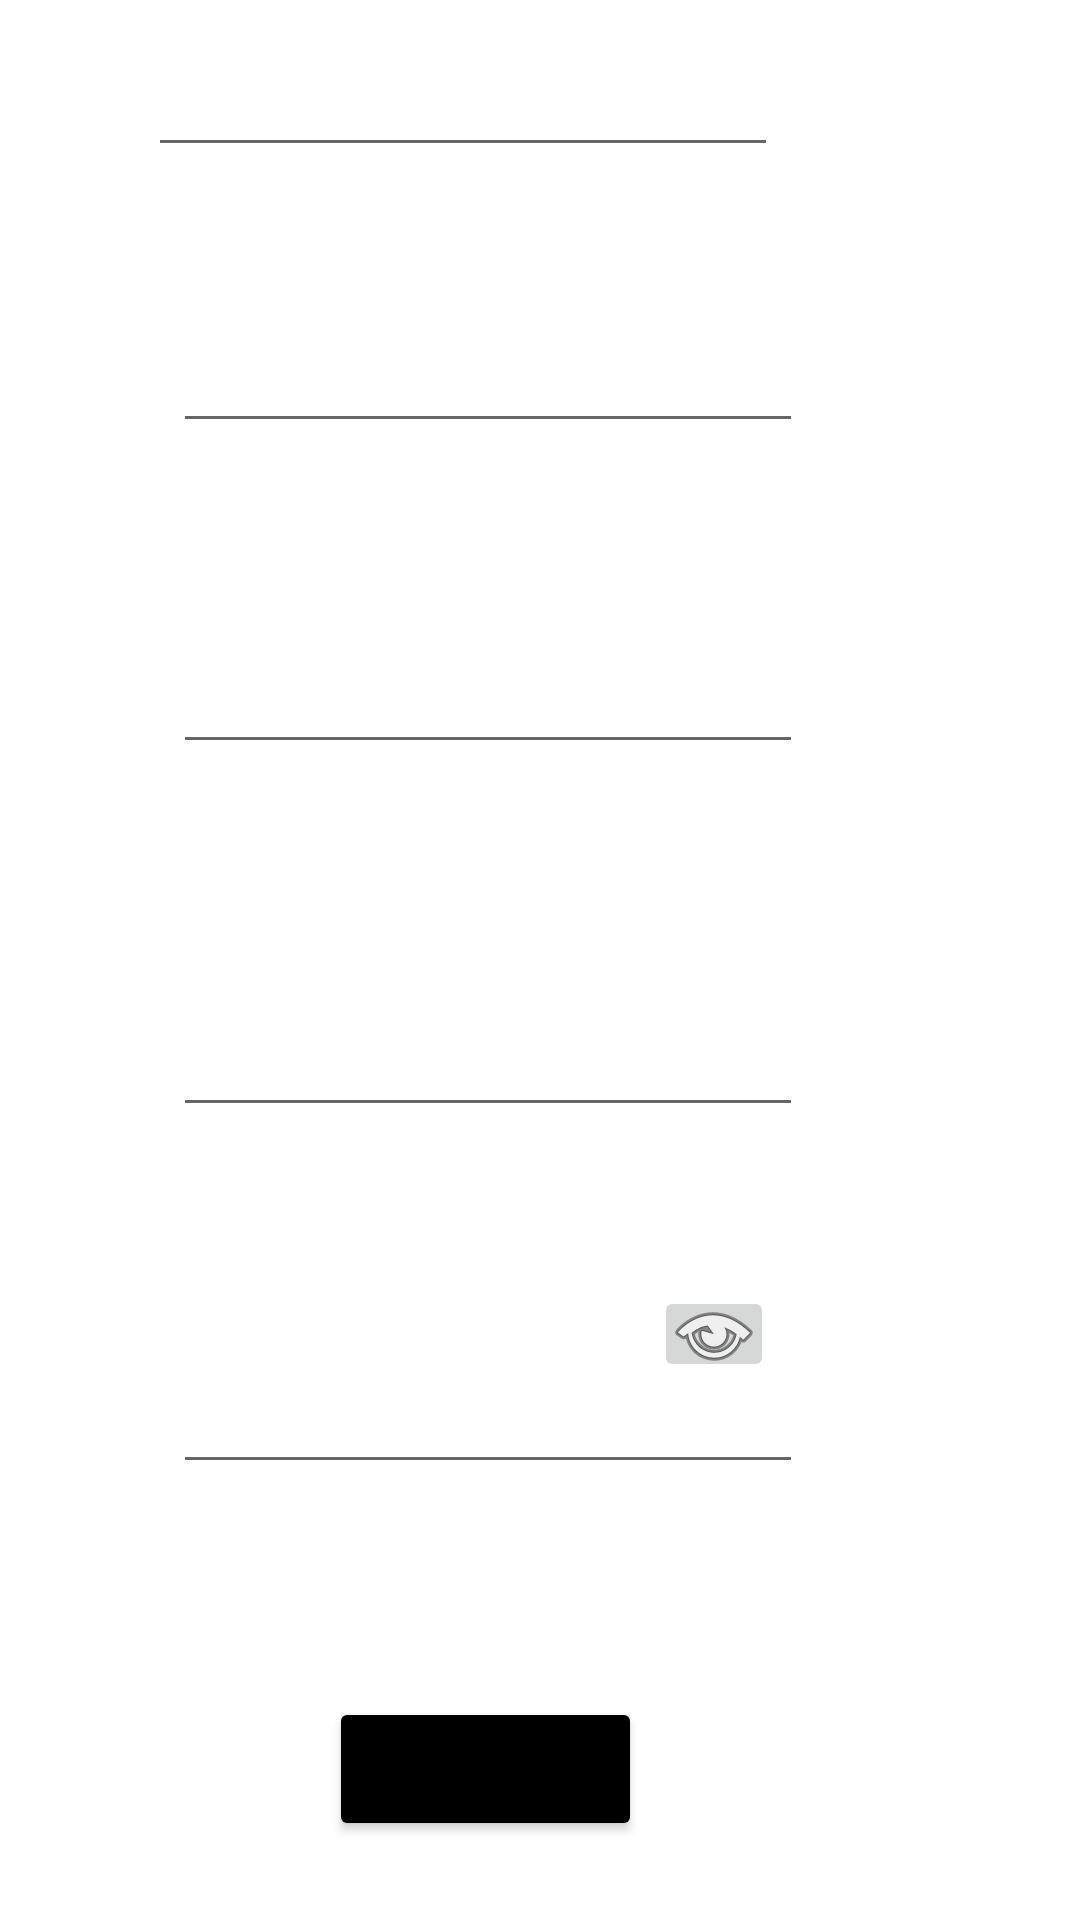

Where icons sit on this 1080px x 1920px app screen, as (x1, y1, x2, y2):
view: (666, 1304, 762, 1364)
